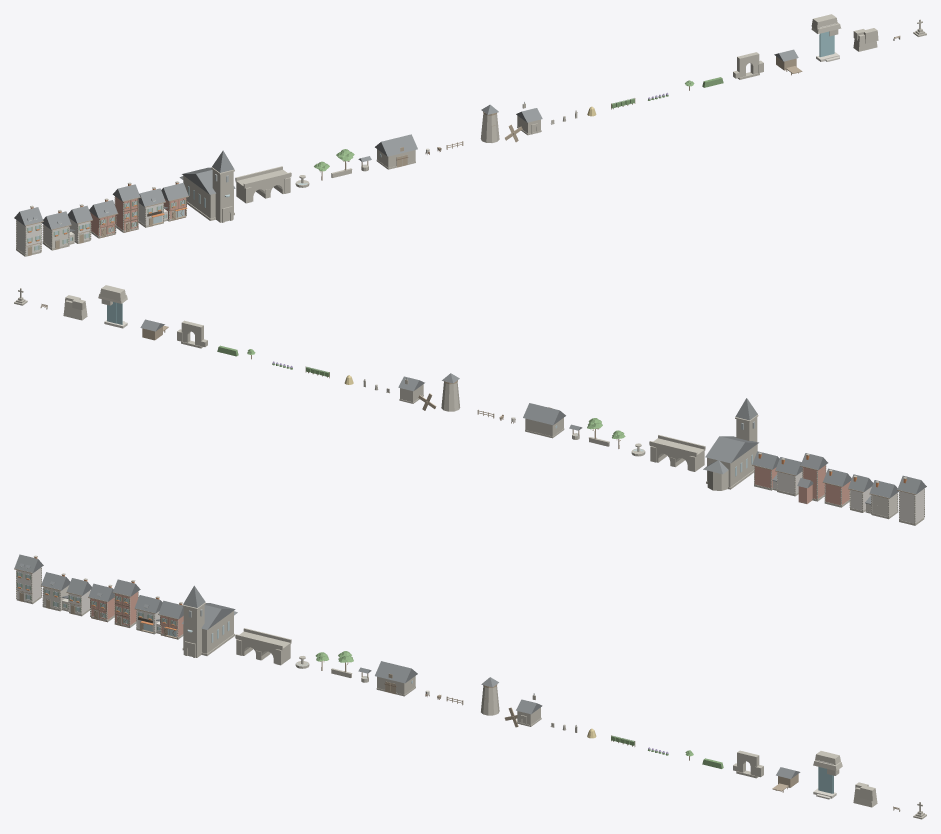
File: kit.glb
3 views of the same model, one above another, from view 1: azimuth 30°, elevation 25°; view 2: azimuth 150°, elevation 25°; view 3: azimuth 330°, elevation 25° (orthographic).
Visible parts, largest first — view 1: Church, Bridge_Stone, House_TallA, Barn, House_TimberE, House_MidB, Shop_A, Waterfall, House_TimberD, Shop_B, House_NarrowC, Ruin_Arch (+3 smaller); view 2: Church, Bridge_Stone, House_TimberE, House_TallA, Barn, House_MidB, Shop_A, House_TimberD, Waterfall, Shop_B, House_NarrowC, Windmill (+2 smaller); view 3: Church, Bridge_Stone, House_TallA, Barn, House_TimberE, Waterfall, House_MidB, Shop_A, House_TimberD, Shop_B, House_NarrowC, Windmill (+2 smaller).
Part boxes in pixels (x1,y1,x2,y2): Church: (179, 150, 235, 222); Bridge_Stone: (235, 166, 291, 203); House_TallA: (14, 205, 43, 256); Barn: (375, 134, 417, 169); House_TimberE: (112, 182, 140, 232); House_MidB: (41, 210, 75, 250); Shop_A: (138, 187, 167, 227); Waterfall: (811, 14, 841, 61); House_TimberD: (89, 198, 118, 238); Shop_B: (161, 181, 188, 221); House_NarrowC: (67, 204, 92, 243); Ruin_Arch: (733, 52, 763, 79); Church: (703, 398, 758, 490); Bridge_Stone: (649, 435, 705, 471); House_TimberE: (797, 453, 828, 503); House_TallA: (897, 475, 926, 525); Barn: (523, 403, 565, 438); House_MidB: (865, 480, 899, 519); Shop_A: (772, 457, 802, 496); House_TimberD: (822, 468, 851, 507); Waterfall: (98, 285, 127, 328); Shop_B: (752, 451, 779, 490); House_NarrowC: (848, 474, 873, 512); Windmill: (441, 373, 460, 411); Church: (182, 585, 237, 657); Bridge_Stone: (235, 628, 291, 665); House_TallA: (14, 554, 43, 604); Barn: (375, 661, 417, 696); House_TimberE: (112, 579, 140, 627); Waterfall: (813, 751, 842, 799); House_MidB: (41, 572, 70, 611); Shop_A: (134, 595, 162, 634); House_TimberD: (88, 583, 114, 622); Shop_B: (158, 600, 183, 639); House_NarrowC: (66, 578, 91, 616); Windmill: (481, 677, 499, 715).
Bounding box in the file's own units: 231 × 18.96 × 17.37.
